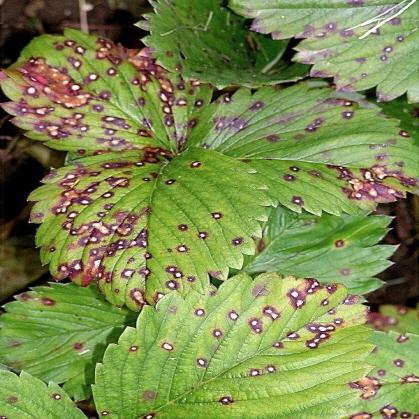Leaf Spot: (91, 270, 376, 418), (26, 145, 273, 311), (182, 78, 418, 217), (0, 27, 178, 164), (225, 0, 418, 104), (0, 280, 141, 402), (131, 0, 313, 88), (240, 205, 401, 303), (129, 50, 215, 153), (342, 303, 418, 418), (0, 368, 88, 418)
